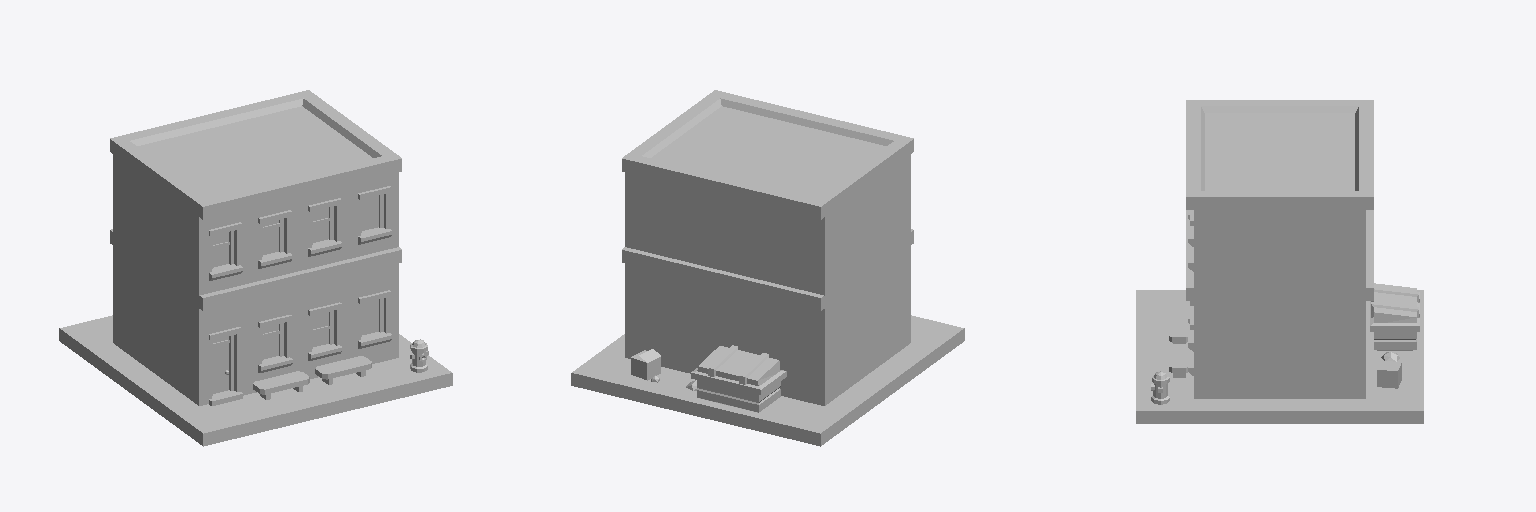
Rendered from building_B.obj.
3 renders of one model, left to right at view 1: azimuth 30°, elevation 25°; view 2: azimuth 150°, elevation 25°; view 3: azimuth 270°, elevation 25°, orthographic.
Visible parts, largest first — view 1: building_B_Cube.936_texture_city; view 2: building_B_Cube.936_texture_city; view 3: building_B_Cube.936_texture_city.
Part boxes in pixels (x1,y1,x2,y2): building_B_Cube.936_texture_city: (59, 90, 452, 446); building_B_Cube.936_texture_city: (571, 90, 964, 446); building_B_Cube.936_texture_city: (1136, 100, 1423, 423).
Size of the model in its own units: 10 by 8.25 by 10.